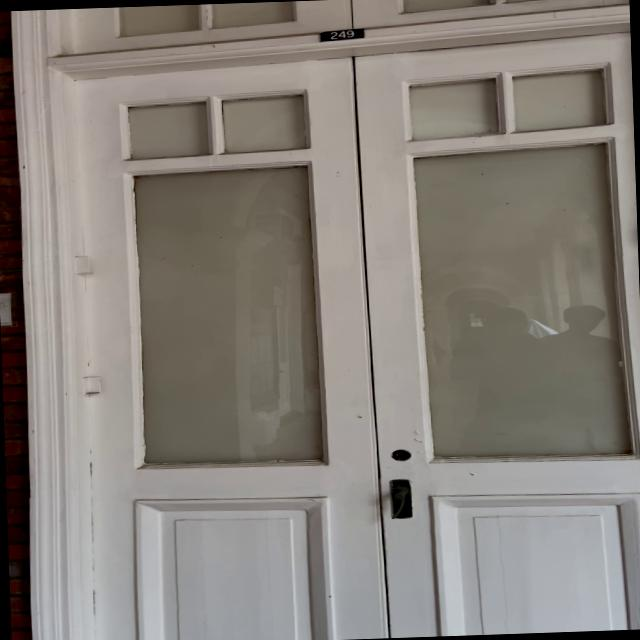room249: (314, 26, 372, 44)
